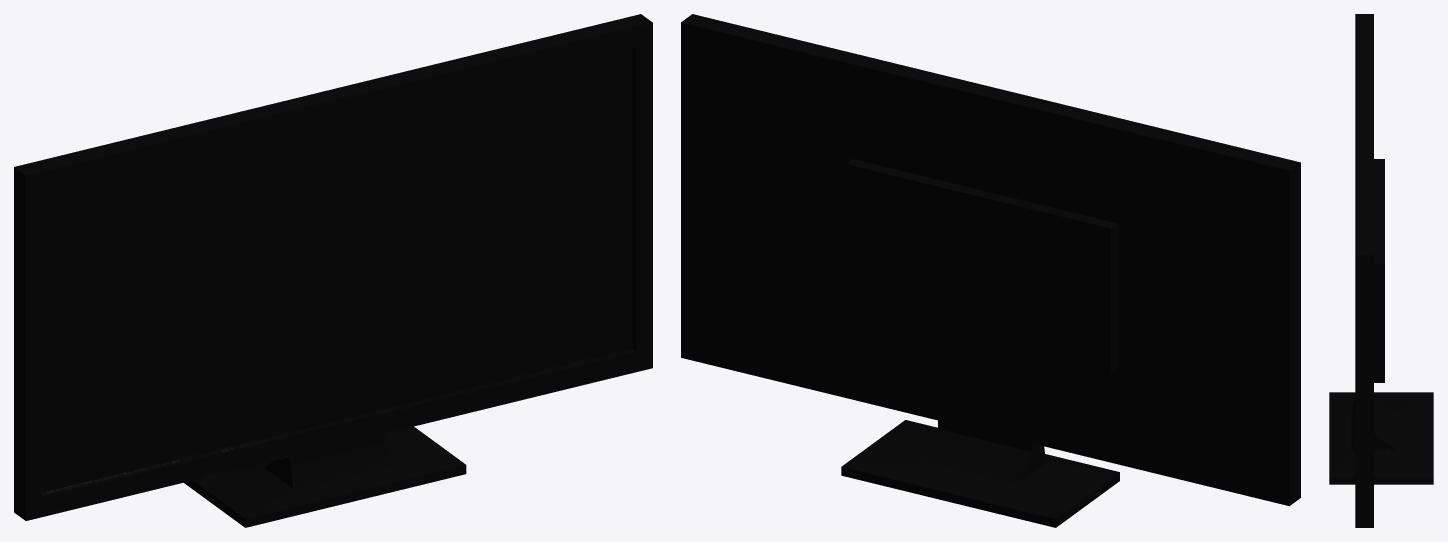
3 views of the same model, side by side, from view 1: azimuth 30°, elevation 25°; view 2: azimuth 150°, elevation 25°; view 3: azimuth 270°, elevation 25° (orthographic). The views are drawn at different scales.
Parts seen in each view (by area): view 1: node_id6, node_id24, node_id26, node_id20, node_id16, node_id22, node_id13, node_id12, node_id19, node_id18, node_id17, node_id7 (+2 smaller); view 2: node_id6, node_id24, node_id20, node_id10, node_id14, node_id23, node_id21, node_id25, node_id19, node_id8, node_id11, node_id7 (+7 smaller); view 3: node_id6, node_id15, node_id17, node_id16, node_id19, node_id24, node_id20, node_id26, node_id23, node_id13, node_id8, node_id9 (+1 smaller).
Part boxes in pixels (x1=…): node_id6: x1=14, y1=28, x2=652, y2=527; node_id24: x1=175, y1=71, x2=419, y2=239; node_id26: x1=501, y1=71, x2=652, y2=235; node_id20: x1=392, y1=52, x2=513, y2=250; node_id16: x1=498, y1=210, x2=632, y2=329; node_id22: x1=41, y1=361, x2=185, y2=496; node_id13: x1=388, y1=301, x2=517, y2=478; node_id12: x1=375, y1=135, x2=445, y2=308; node_id19: x1=485, y1=14, x2=652, y2=114; node_id18: x1=203, y1=275, x2=319, y2=363; node_id17: x1=193, y1=461, x2=351, y2=527; node_id7: x1=35, y1=159, x2=151, y2=347; node_id6: x1=681, y1=69, x2=1300, y2=527; node_id24: x1=909, y1=71, x2=1139, y2=236; node_id20: x1=812, y1=51, x2=930, y2=246; node_id10: x1=1049, y1=294, x2=1205, y2=461; node_id14: x1=1198, y1=157, x2=1300, y2=394; node_id23: x1=1120, y1=125, x2=1279, y2=274; node_id21: x1=941, y1=341, x2=1105, y2=459; node_id25: x1=937, y1=161, x2=1016, y2=344; node_id19: x1=681, y1=14, x2=844, y2=119; node_id8: x1=817, y1=241, x2=958, y2=371; node_id11: x1=1007, y1=229, x2=1147, y2=323; node_id7: x1=1139, y1=163, x2=1270, y2=342; node_id6: x1=1329, y1=16, x2=1432, y2=520; node_id15: x1=1329, y1=412, x2=1433, y2=484; node_id17: x1=1329, y1=392, x2=1433, y2=429; node_id16: x1=1355, y1=403, x2=1373, y2=502; node_id19: x1=1355, y1=195, x2=1373, y2=334; node_id24: x1=1359, y1=76, x2=1384, y2=212; node_id20: x1=1355, y1=165, x2=1384, y2=332; node_id26: x1=1355, y1=334, x2=1373, y2=402; node_id23: x1=1355, y1=22, x2=1373, y2=75; node_id13: x1=1329, y1=467, x2=1395, y2=484; node_id8: x1=1374, y1=330, x2=1384, y2=382; node_id9: x1=1355, y1=501, x2=1373, y2=527.
Bounding box in the file's own units: 0.512 × 0.3042 × 0.0935.
Materials: 21 (21 with a texture image).
